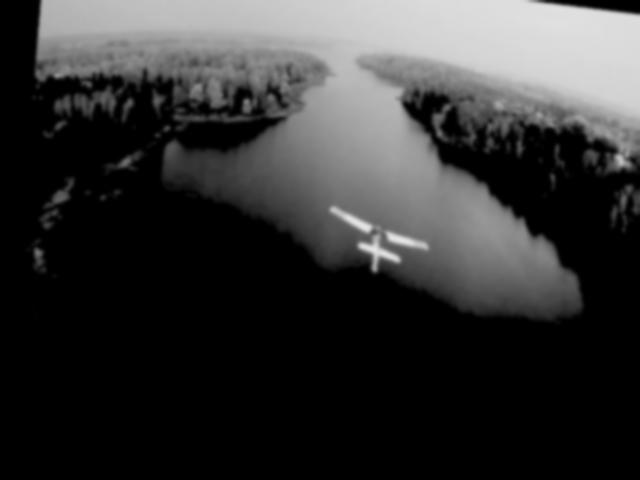hedef: (307, 197, 426, 297)
